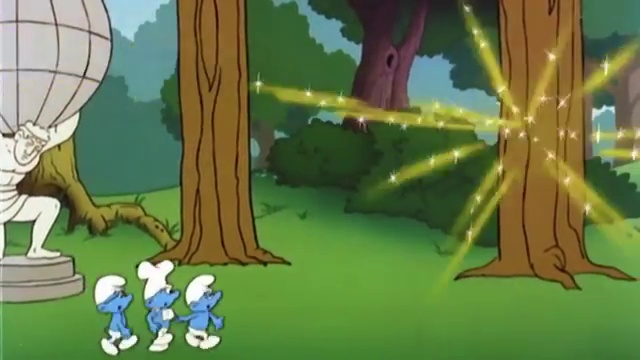smurf: (132, 258, 184, 354), (89, 272, 139, 354), (182, 274, 226, 352)
